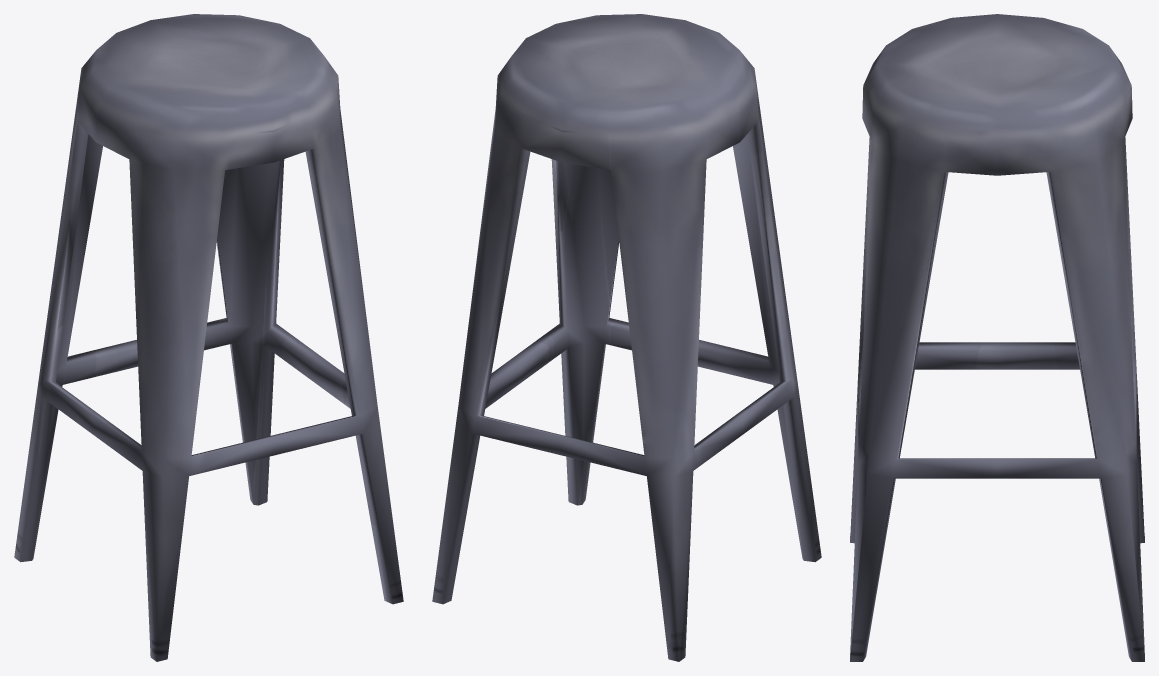
The model's file is BarStool.fbx.
3 views of the same model, side by side, from view 1: azimuth 30°, elevation 25°; view 2: azimuth 150°, elevation 25°; view 3: azimuth 270°, elevation 25° (orthographic). The views are drawn at different scales.
Parts seen in each view (by area): view 1: BarStool; view 2: BarStool; view 3: BarStool.
Part boxes in pixels (x1,y1,x2,y2): BarStool: (14, 14, 403, 661); BarStool: (432, 14, 821, 661); BarStool: (850, 14, 1144, 661).
Size of the model in its own units: 40 by 80.56 by 40.
Materials: 1 (1 with a texture image).
